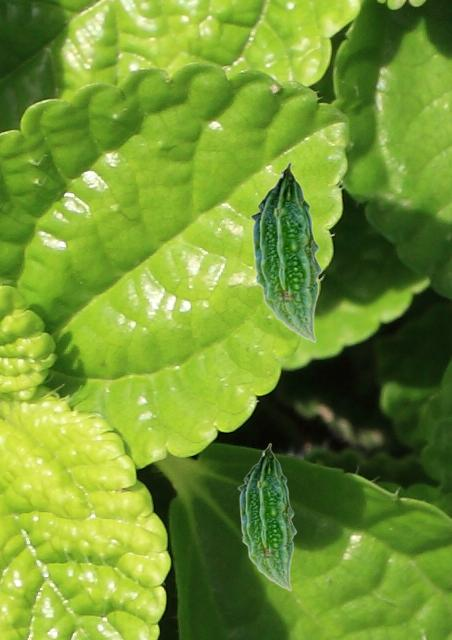ampalaya: (249, 159, 324, 343), (237, 442, 297, 591)
